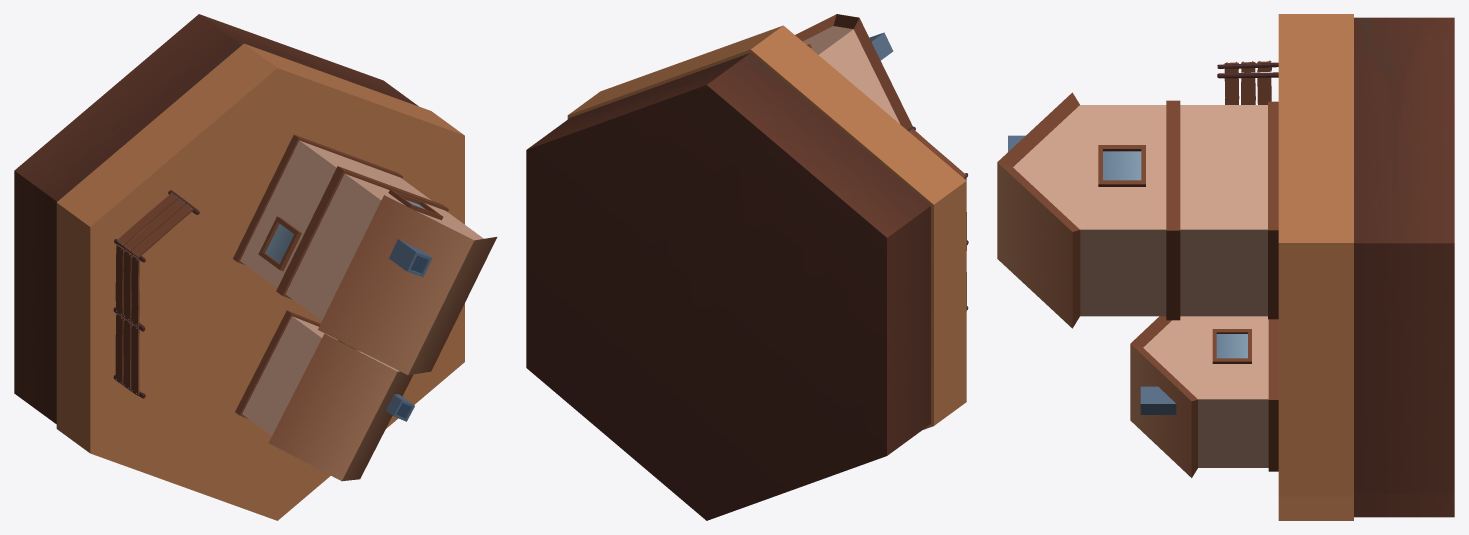
The model's file is DORF_S.fbx.
3 views of the same model, side by side, from view 1: azimuth 30°, elevation 25°; view 2: azimuth 150°, elevation 25°; view 3: azimuth 270°, elevation 25° (orthographic). The views are drawn at different scales.
Visible parts, largest first — view 1: DORF_S; view 2: DORF_S; view 3: DORF_S.
Part boxes in pixels (<box>): DORF_S: <box>14,14,497,520</box>; DORF_S: <box>526,14,968,520</box>; DORF_S: <box>997,14,1454,520</box>.
Bounding box in the file's own units: 172 × 199 × 163.
